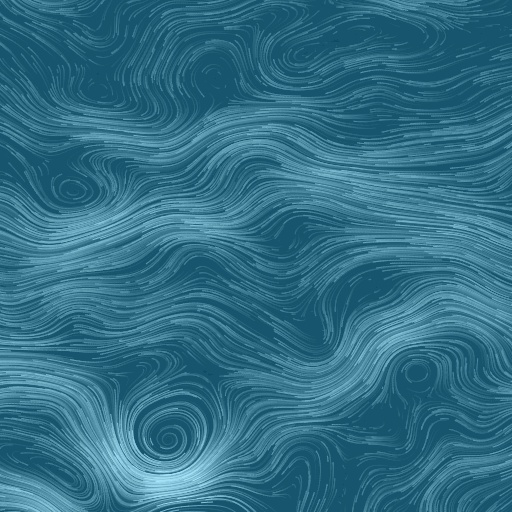eddy: (122, 387, 218, 472), (278, 18, 382, 71), (47, 172, 96, 209), (401, 358, 435, 389)
